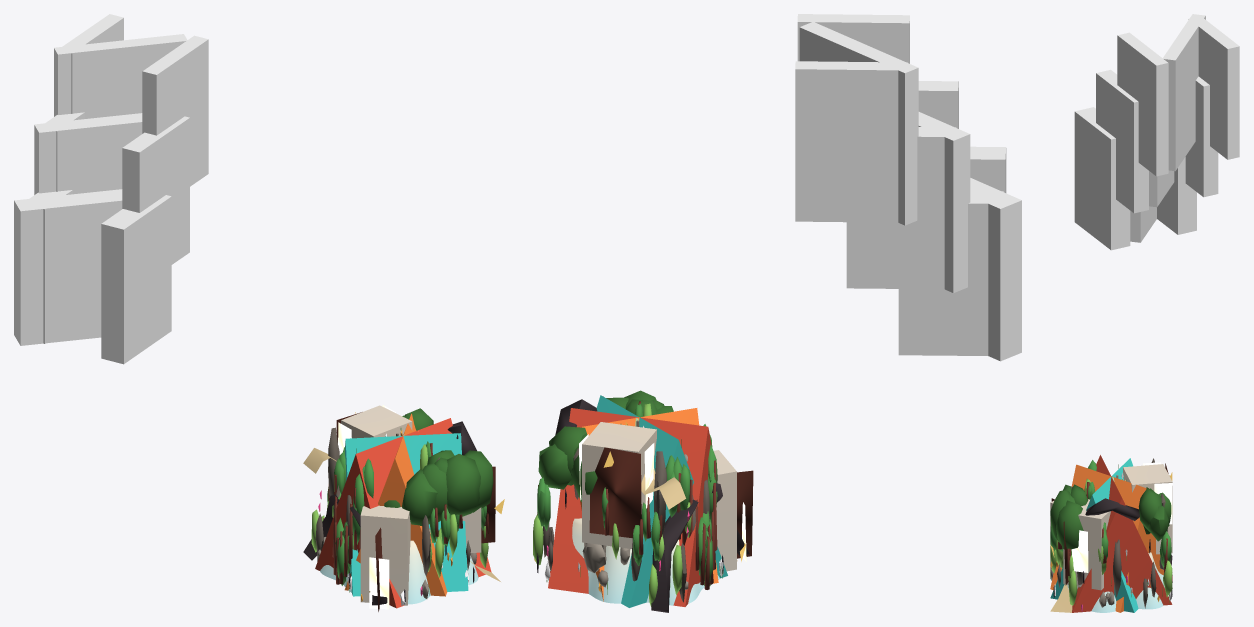
The model's file is ile-geants-v4-leger.glb.
The picture shows the model from 3 angles, left to right: view 1: azimuth 30°, elevation 25°; view 2: azimuth 150°, elevation 25°; view 3: azimuth 270°, elevation 25°; orthographic projection. The views are drawn at different scales.
Visible parts, largest first — view 1: geants_decor, geants_z0, geants_z2, geants_z1, geants_terrain; view 2: geants_decor, geants_z2, geants_z0, geants_z1, geants_terrain; view 3: geants_decor, geants_z2, geants_z0, geants_z1, geants_terrain.
Boxes of the visible parts, x1,y1,x2,y2 form: geants_decor: (303, 405, 504, 611); geants_z0: (14, 189, 171, 364); geants_z2: (54, 14, 208, 186); geants_z1: (34, 112, 189, 264); geants_terrain: (320, 434, 478, 604); geants_decor: (533, 390, 753, 612); geants_z2: (795, 14, 918, 225); geants_z0: (898, 146, 1021, 361); geants_z1: (846, 81, 970, 292); geants_terrain: (548, 417, 719, 605); geants_decor: (1050, 455, 1172, 612); geants_z2: (1117, 14, 1239, 176); geants_z0: (1074, 107, 1196, 250); geants_z1: (1096, 69, 1218, 213); geants_terrain: (1050, 477, 1164, 612).
Size of the model in its own units: 6.6 by 8.2 by 3.1.
